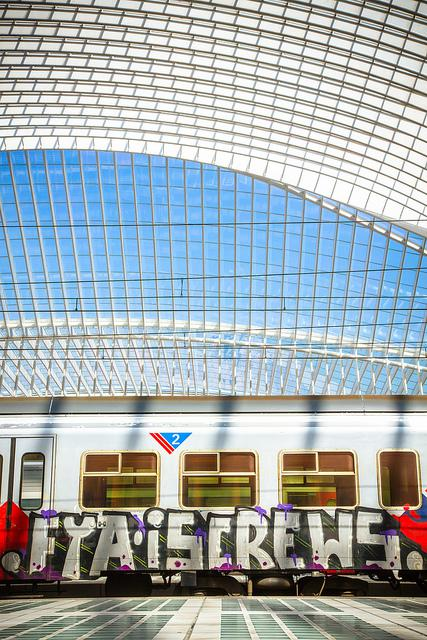Train: (2, 391, 426, 601)
